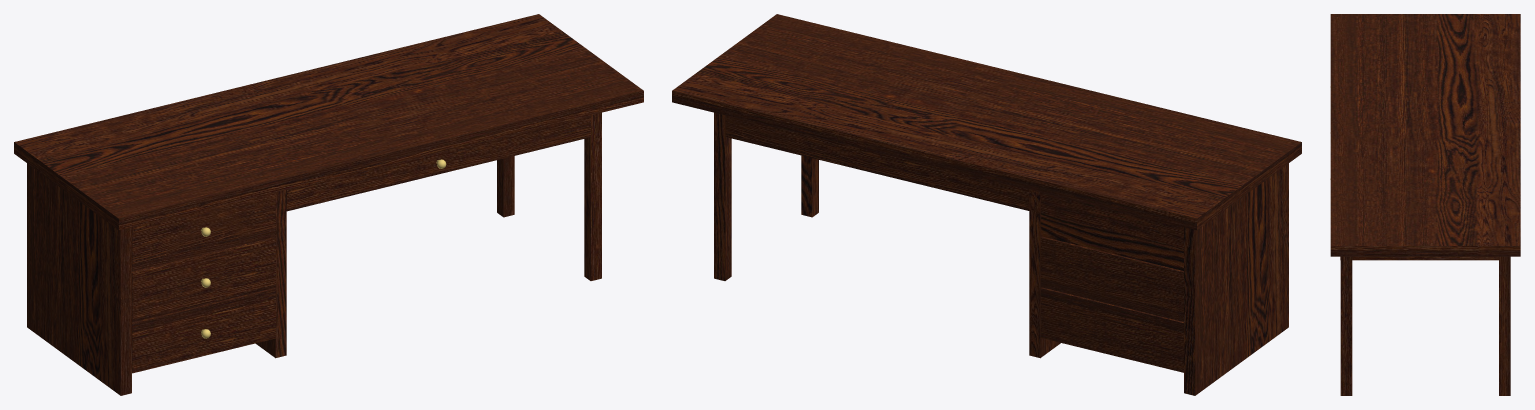
Rendered from TableDraftSeparated.fbx.
The picture shows the model from 3 angles, left to right: view 1: azimuth 30°, elevation 25°; view 2: azimuth 150°, elevation 25°; view 3: azimuth 270°, elevation 25°; orthographic projection. The views are drawn at different scales.
Visible parts, largest first — view 1: TableSeparated, TableShelf2, TableShelf1, TableShelfLarge, TableShelf3; view 2: TableSeparated, TableShelf2, TableShelf1, TableShelfLarge, TableShelf3; view 3: TableSeparated, TableShelfLarge.
Part boxes in pixels (bbox=[...]): TableSeparated: bbox=[14, 14, 643, 395]; TableShelf2: bbox=[132, 237, 275, 322]; TableShelf1: bbox=[132, 288, 275, 373]; TableShelfLarge: bbox=[286, 115, 590, 211]; TableShelf3: bbox=[132, 192, 275, 271]; TableSeparated: bbox=[672, 14, 1301, 395]; TableShelf2: bbox=[1040, 236, 1183, 321]; TableShelf1: bbox=[1040, 287, 1183, 372]; TableShelfLarge: bbox=[725, 115, 1029, 210]; TableShelf3: bbox=[1040, 192, 1183, 270]; TableSeparated: bbox=[1330, 14, 1520, 395]; TableShelfLarge: bbox=[1340, 256, 1498, 260].
Size of the model in its own units: 300 by 100 by 104.
Materials: 2 (1 with a texture image).
